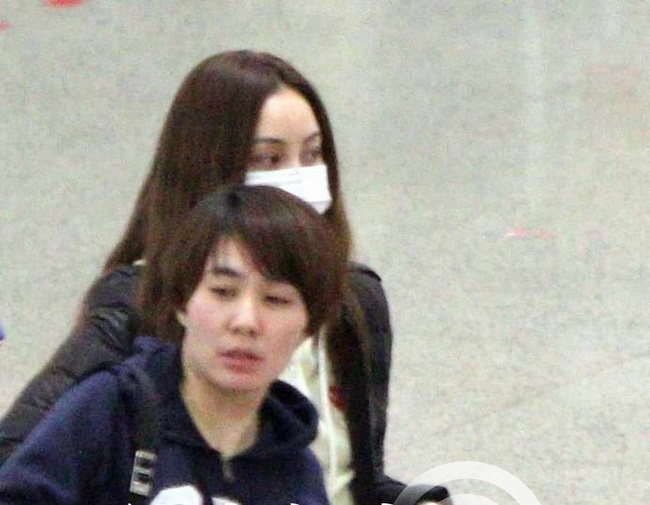face: (183, 237, 307, 390)
face_mask: (233, 93, 329, 233)
